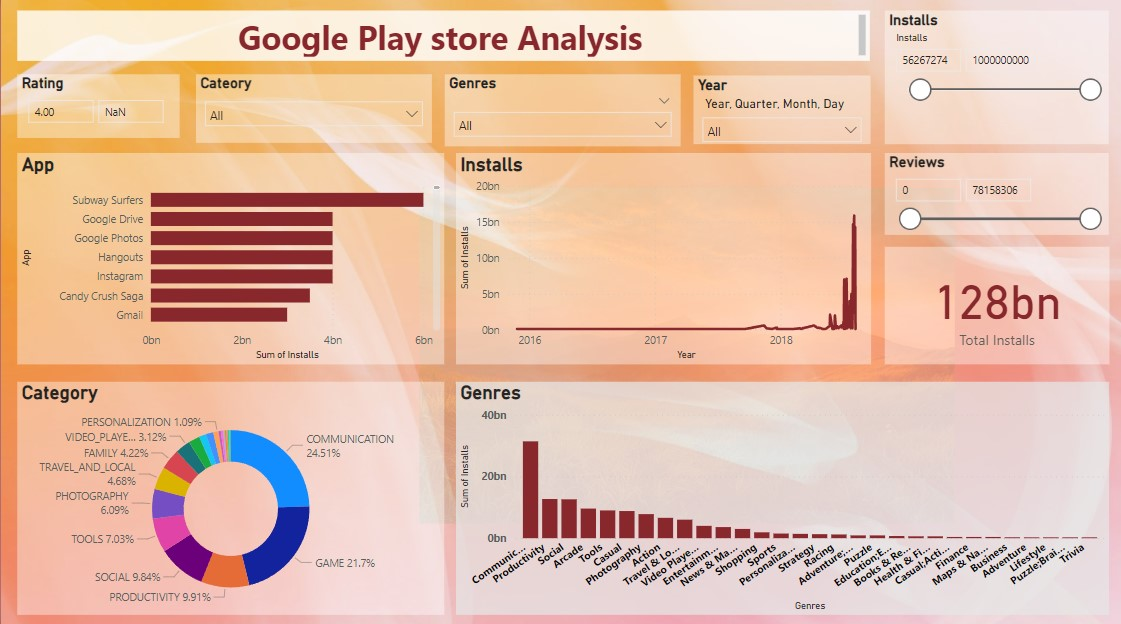

Layout of this report page (visuals, bound fields, positions):
{"tool":"powerbi","page":{"name":"Page 1","canvas":[1280,720],"ordinal":0},"visuals":[{"type":"donutChart","title":"Category","fields":{"Category":["googleplaystore.Category"],"Y":["Sum(googleplaystore.Installs)"]},"box":[19.2,438.6,488.1,266.7],"z":0},{"type":"clusteredColumnChart","title":"Genres","fields":{"Category":["googleplaystore.Genres"],"Y":["Sum(googleplaystore.Installs)"]},"box":[519.7,438.6,746.6,266.7],"z":1000},{"type":"slicer","title":"Installs","fields":{"Values":["googleplaystore.Installs"]},"box":[1010.5,13.7,255.7,152.6],"z":2000},{"type":"slicer","title":"Rating","fields":{"Values":["googleplaystore.Rating"]},"box":[19.2,86.6,185.6,72.9],"z":3000},{"type":"lineChart","title":"Installs","fields":{"Category":["googleplaystore.Last Updated.Variation.Date Hierarchy.Year","googleplaystore.Last Updated.Variation.Date Hierarchy.Quarter","googleplaystore.Last Updated.Variation.Date Hierarchy.Month","googleplaystore.Last Updated.Variation.Date Hierarchy.Day"],"Y":["Sum(googleplaystore.Installs)"]},"box":[519.7,177.4,474.3,242],"z":4000},{"type":"slicer","title":"Year","fields":{"Values":["googleplaystore.Last Updated.Variation.Date Hierarchy.Year","googleplaystore.Last Updated.Variation.Date Hierarchy.Quarter","googleplaystore.Last Updated.Variation.Date Hierarchy.Month","googleplaystore.Last Updated.Variation.Date Hierarchy.Day"]},"box":[791.9,88,202.1,78.4],"z":5000},{"type":"slicer","title":"Genres","fields":{"Values":["googleplaystore.Genres"]},"box":[507.3,86.6,269.5,82.5],"z":6000},{"type":"barChart","title":"App","fields":{"Category":["googleplaystore.App"],"Y":["Sum(googleplaystore.Installs)"]},"box":[19.2,177.4,488.1,242],"z":7000},{"type":"textbox","box":[19.2,13.7,974.8,57.7],"z":8000},{"type":"slicer","title":"Cateory","fields":{"Values":["googleplaystore.Category"]},"box":[222.7,86.6,269.5,78.4],"z":9000},{"type":"slicer","title":"Reviews","fields":{"Values":["googleplaystore.Reviews"]},"box":[1010.5,177.4,255.7,93.5],"z":10000},{"type":"card","fields":{"Values":["Sum(googleplaystore.Installs)"]},"box":[1010.5,284.6,257.1,134.7],"z":12000}]}

Visuals, with their boxes in screenshot pixels (x1, y1, x2, y2), scaled from the page's 1280x720 canvas onto the 1121x624 screenshot:
"Category" donutChart: bbox(17, 380, 444, 611)
"Genres" clusteredColumnChart: bbox(455, 380, 1109, 611)
"Installs" slicer: bbox(885, 12, 1109, 144)
"Rating" slicer: bbox(17, 75, 179, 138)
"Installs" lineChart: bbox(455, 154, 871, 363)
"Year" slicer: bbox(694, 76, 871, 144)
"Genres" slicer: bbox(444, 75, 680, 147)
"App" barChart: bbox(17, 154, 444, 363)
textbox: bbox(17, 12, 871, 62)
"Cateory" slicer: bbox(195, 75, 431, 143)
"Reviews" slicer: bbox(885, 154, 1109, 235)
card - Sum(googleplaystore.Installs): bbox(885, 247, 1110, 363)
